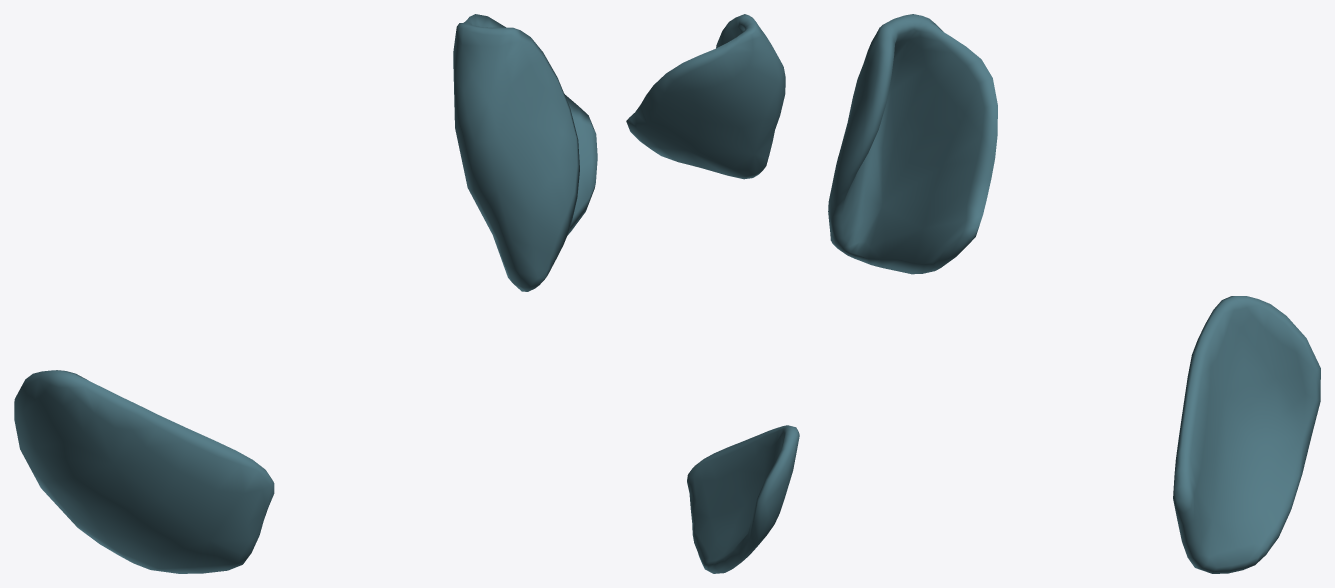
Rendered from Scalenus_medius_and_posterior_on_transverse_processes.r_Generat.glb.
The picture shows the model from 3 angles, left to right: view 1: azimuth 30°, elevation 25°; view 2: azimuth 150°, elevation 25°; view 3: azimuth 270°, elevation 25°; orthographic projection. The views are drawn at different scales.
Parts seen in each view (by area): view 1: Scalenus_medius_and_posterior_on_transverse_processes.r_Gene; view 2: Scalenus_medius_and_posterior_on_transverse_processes.r_Gene; view 3: Scalenus_medius_and_posterior_on_transverse_processes.r_Gene.
Part boxes in pixels (x1=…): Scalenus_medius_and_posterior_on_transverse_processes.r_Gene: x1=14, y1=14, x2=597, y2=573; Scalenus_medius_and_posterior_on_transverse_processes.r_Gene: x1=626, y1=14, x2=799, y2=573; Scalenus_medius_and_posterior_on_transverse_processes.r_Gene: x1=828, y1=14, x2=1320, y2=573.
Bounding box in the file's own units: 0.00948 × 0.0146 × 0.0108.
